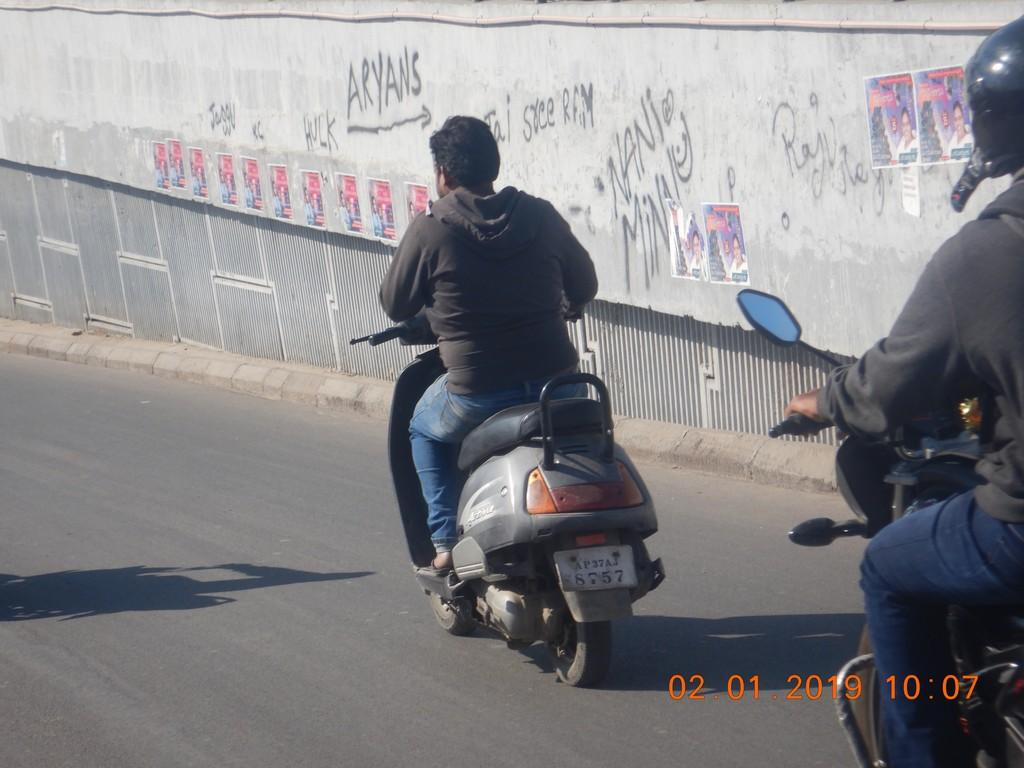plate: (565, 548, 633, 595)
